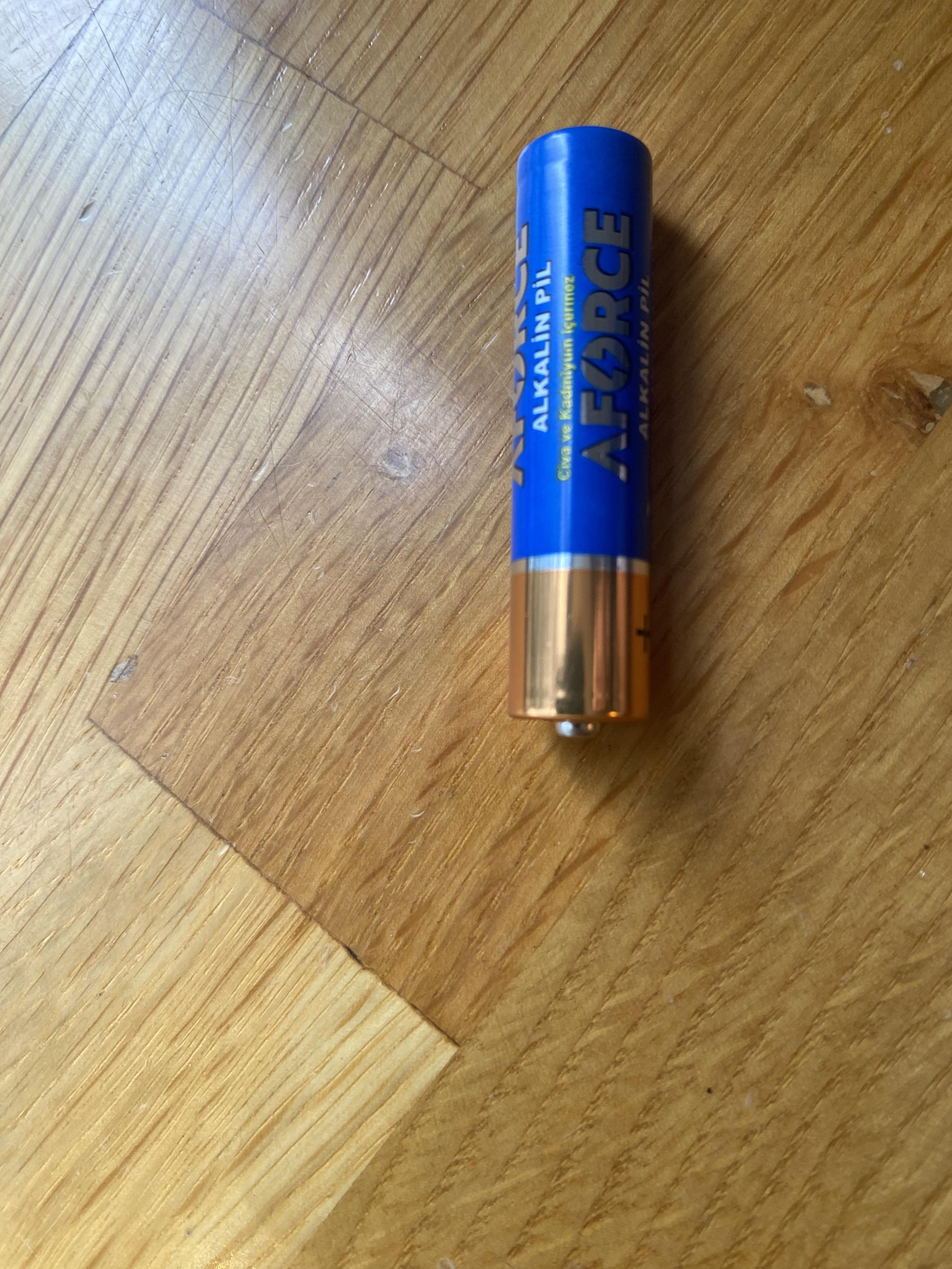AAA: (503, 117, 659, 750)
